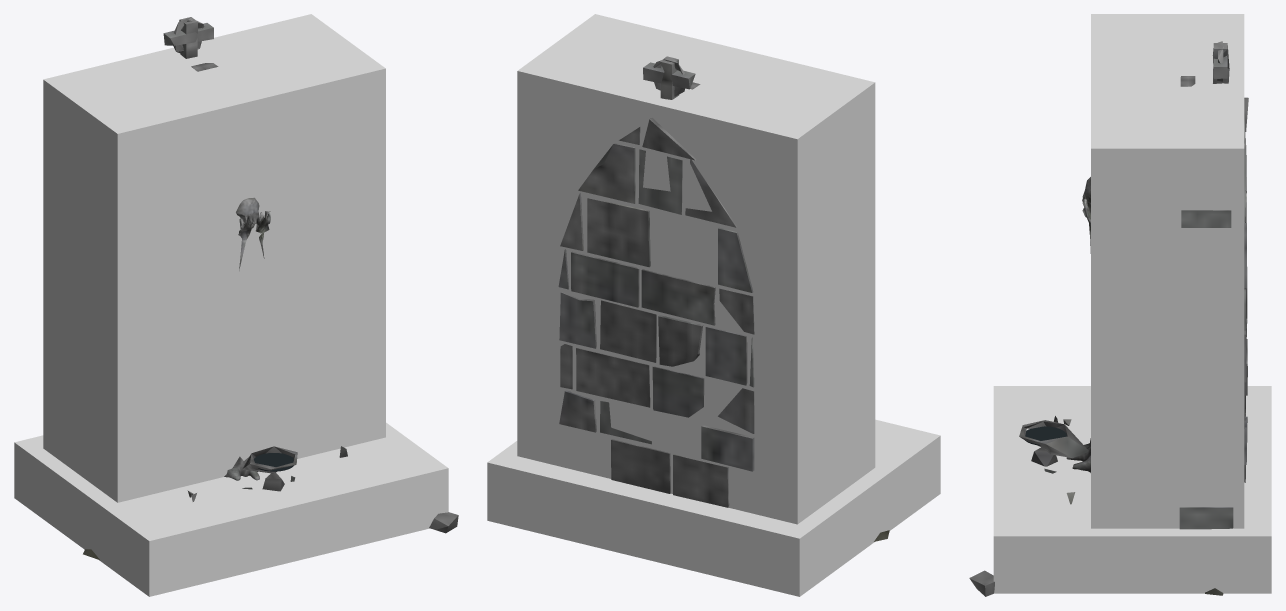
File: shrine_weeping_angel_lite.glb
3 renders of one model, left to right at view 1: azimuth 30°, elevation 25°; view 2: azimuth 150°, elevation 25°; view 3: azimuth 270°, elevation 25°, orthographic. The views are drawn at different scales.
Parts seen in each view (by area): view 1: col_shrine_niche, col_shrine_plinth, shrine_body; view 2: col_shrine_niche, shrine_body, col_shrine_plinth; view 3: col_shrine_niche, col_shrine_plinth, shrine_body, water_basin.
Part boxes in pixels (<box>): col_shrine_niche: <box>43,14,385,502</box>; col_shrine_plinth: <box>14,422,448,596</box>; shrine_body: <box>83,17,458,559</box>; col_shrine_niche: <box>517,14,875,524</box>; shrine_body: <box>558,56,889,541</box>; col_shrine_plinth: <box>487,419,940,596</box>; col_shrine_niche: <box>1091,14,1244,528</box>; col_shrine_plinth: <box>993,386,1271,593</box>; shrine_body: <box>969,41,1248,596</box>; water_basin: <box>1025,426,1066,445</box>.
Bounding box in the file's own units: 1.82 × 2.57 × 1.48.
3 materials, 2 textured.
